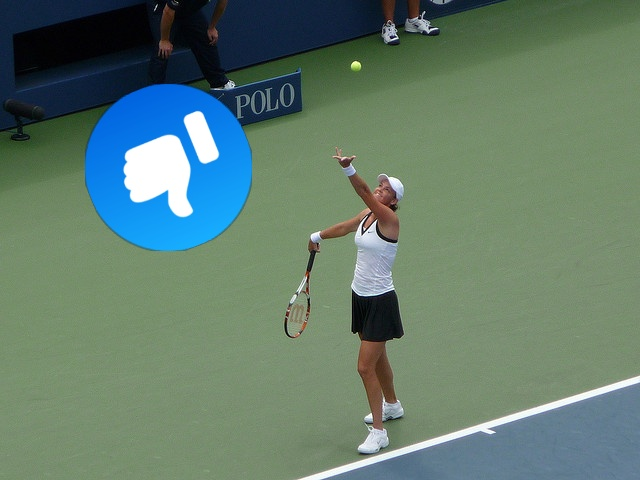like: (85, 84, 252, 251)
